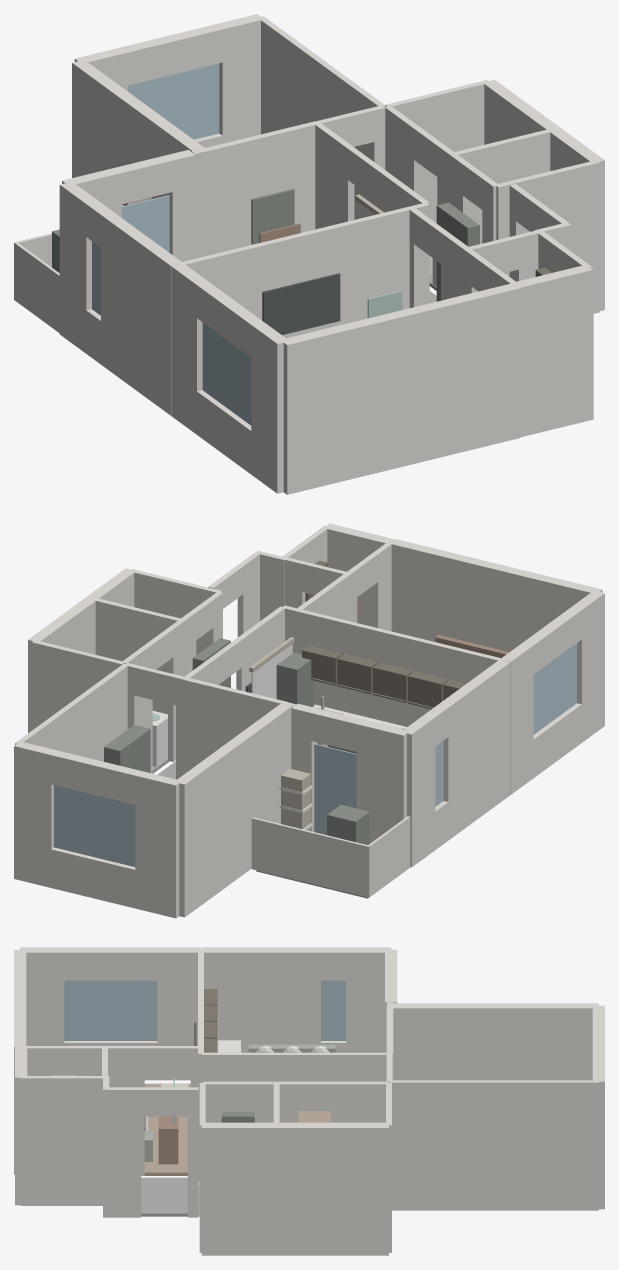
The model's file is kvartira-japandi-now-daily.glb.
3 views of the same model, one above another, from view 1: azimuth 30°, elevation 25°; view 2: azimuth 150°, elevation 25°; view 3: azimuth 270°, elevation 25° (orthographic). The views are drawn at different scales.
Parts seen in each view (by area): view 1: wall_w_l_s_166_612_0.0, wall_w_dividing_168_644_0.0, wall_w_closet_s_612_752_0.0, wall_w_k_w_559_791_0.0, wall_w_top_s_426_660_0.0, wall_w_top_w_20_423_0.0, wall_w_top_e_20_425_0.0, wall_w_wc_s_777_971_0.0, wall_w_l_w_1057_1143_0.0, wall_w_top_n_691_771_0.0, wall_w_bath_n_777_971_0.0, wall_w_k_w_423_511_0.0 (+40 smaller); view 2: wall_w_l_s_166_612_0.0, wall_w_top_w_20_423_0.0, wall_w_dividing_168_644_0.0, wall_w_k_w_559_791_0.0, wall_w_top_n_422_510_0.0, wall_w_log_n_159_409_0.0, wall_w_top_n_691_771_0.0, wall_w_top_e_20_425_0.0, wall_w_top_n_510_691_0.8, wall_w_k_n1_165_266_0.0, wall_w_k_n2_408_643_0.0, wall_w_bath_n_777_971_0.0 (+51 smaller); view 3: wall_w_top_e_20_425_0.0, wall_w_bath_e_427_791_0.0, wall_w_top_w_20_423_0.0, wall_w_k_w_559_791_0.0, wall_w_closet_e_978_1141_0.0, wall_w_l_w_877_1057_0.8, wall_w_entry_e_908_972_0.0, wall_w_l_w_792_877_0.0, wall_w_k_w_423_511_0.0, wall_w_l_w_1057_1143_0.0, wall_w_l_w_877_1057_2.1, wall_w_k_e_625_790_0.0 (+28 smaller).
Part boxes in pixels (x1,y1,x2,y2): wall_w_l_s_166_612_0.0: (281,283,520,494); wall_w_dividing_168_644_0.0: (178,202,429,338); wall_w_closet_s_612_752_0.0: (516,265,593,437); wall_w_k_w_559_791_0.0: (101,212,182,415); wall_w_top_s_426_660_0.0: (204,119,327,256); wall_w_top_w_20_423_0.0: (72,60,204,199); wall_w_top_e_20_425_0.0: (258,16,385,219); wall_w_wc_s_777_971_0.0: (495,161,599,313); wall_w_l_w_1057_1143_0.0: (251,322,289,493); wall_w_top_n_691_771_0.0: (216,14,263,143); wall_w_bath_n_777_971_0.0: (385,80,489,223); wall_w_k_w_423_511_0.0: (59,183,98,353); wall_w_l_s_166_612_0.0: (390,539,602,651); wall_w_top_w_20_423_0.0: (174,703,292,917); wall_w_dividing_168_644_0.0: (282,605,505,726); wall_w_k_w_559_791_0.0: (437,659,510,840); wall_w_top_n_422_510_0.0: (135,771,181,918); wall_w_log_n_159_409_0.0: (251,817,368,897); wall_w_top_n_691_771_0.0: (14,742,56,887); wall_w_top_e_20_425_0.0: (15,663,127,761); wall_w_top_n_510_691_0.8: (54,785,135,866); wall_w_k_n1_165_266_0.0: (356,719,409,843); wall_w_k_n2_408_643_0.0: (183,679,295,774); wall_w_bath_n_777_971_0.0: (32,641,124,730); wall_w_top_e_20_425_0.0: (390,1080,598,1210); wall_w_bath_e_427_791_0.0: (201,1122,388,1255); wall_w_top_w_20_423_0.0: (391,1003,598,1080); wall_w_k_w_559_791_0.0: (201,947,320,1052); wall_w_closet_e_978_1141_0.0: (21,1076,104,1205); wall_w_l_w_877_1057_0.8: (64,980,157,1040); wall_w_entry_e_908_972_0.0: (108,1087,141,1217); wall_w_l_w_792_877_0.0: (157,947,200,1080); wall_w_k_w_423_511_0.0: (346,947,391,1052); wall_w_l_w_1057_1143_0.0: (20,947,64,1045); wall_w_l_w_877_1057_2.1: (64,947,157,980); wall_w_k_e_625_790_0.0: (202,1052,286,1111).
Bounding box in the file's own units: 8.24 × 2.77 × 11.41.
